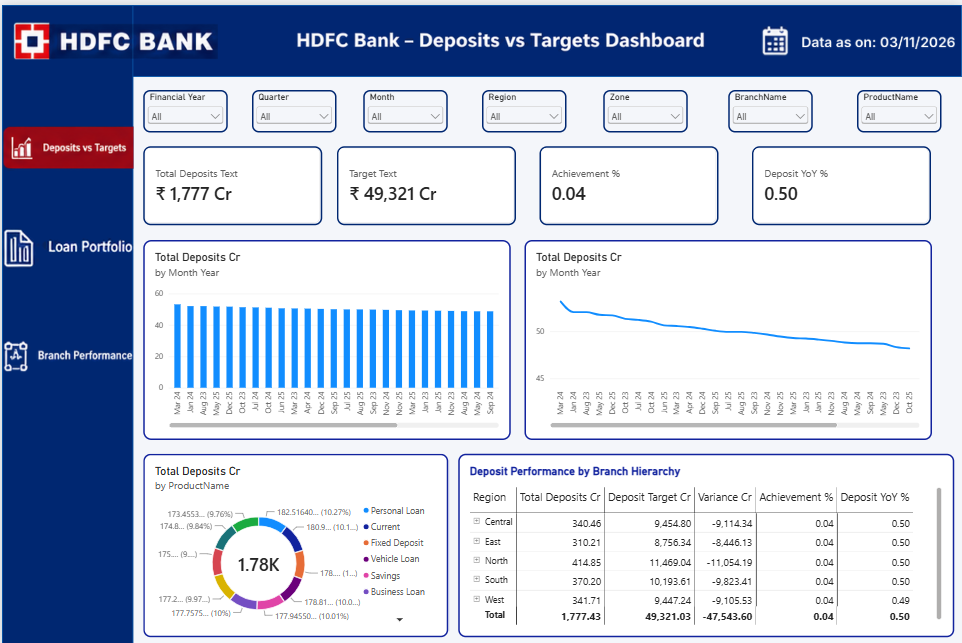

Layout of this report page (visuals, bound fields, positions):
{"tool":"powerbi","page":{"name":"Page 1","canvas":[1536,1024],"ordinal":0},"visuals":[{"type":"shape","box":[0,0,1535.7,115],"z":0},{"type":"shape","box":[0,0,210,1025],"z":1},{"type":"image","box":[13.3,0,331.2,115],"z":2},{"type":"image","box":[1213.1,0,310.6,115],"z":3},{"type":"image","box":[468.4,24,657.2,70.3],"z":4},{"type":"image","box":[0,185,210,83.3],"z":5},{"type":"image","box":[0,353.3,210,70],"z":6},{"type":"image","box":[0,528.3,210,70],"z":7},{"type":"slicer","fields":{"Values":["DimDate.Financial Year"]},"box":[225,136.7,135,68.3],"z":8},{"type":"slicer","fields":{"Values":["DimDate.Quarter"]},"box":[400,136.7,135,68.3],"z":9},{"type":"slicer","fields":{"Values":["DimDate.Month Year"]},"box":[578.3,136.7,135,68.3],"z":10},{"type":"slicer","fields":{"Values":["DimBranch.Region"]},"box":[768.3,136.7,135,68.3],"z":11},{"type":"slicer","fields":{"Values":["DimBranch.Zone"]},"box":[961.7,136.7,135,68.3],"z":12},{"type":"slicer","fields":{"Values":["DimBranch.BranchName"]},"box":[1161.7,136.7,135,68.3],"z":13},{"type":"slicer","fields":{"Values":["DimProduct.ProductName"]},"box":[1368.3,136.7,135,68.3],"z":14},{"type":"cardVisual","fields":{"Data":["FactTransactions.Total Deposits Text"]},"box":[225,226.7,286.7,126.7],"z":15},{"type":"cardVisual","fields":{"Data":["FactTransactions.Target Text"]},"box":[535,226.7,286.7,126.7],"z":16},{"type":"cardVisual","fields":{"Data":["FactTransactions.Achievement %"]},"box":[860,226.7,286.7,126.7],"z":17},{"type":"cardVisual","fields":{"Data":["FactTransactions.Deposit YoY %"]},"box":[1200,226.7,286.7,126.7],"z":18},{"type":"clusteredColumnChart","fields":{"Category":["DimDate.Month Year"],"Y":["FactTransactions.Total Deposits Cr"]},"box":[225,375,588.3,320],"z":19},{"type":"lineChart","fields":{"Category":["DimDate.Month Year"],"Y":["FactTransactions.Total Deposits Cr"]},"box":[835,375,651.7,320],"z":20},{"type":"donutChart","fields":{"Category":["DimProduct.ProductName"],"Y":["FactTransactions.Total Deposits Cr"]},"box":[225,718.3,488.3,293.3],"z":21},{"type":"pivotTable","title":"Deposit Performance by Branch Hierarchy","fields":{"Rows":["DimBranch.Region","DimBranch.Zone","DimBranch.City","DimBranch.BranchName"],"Values":["FactTransactions.Total Deposits Cr","FactTransactions.Deposit Target Cr","FactTransactions.Variance Cr","FactTransactions.Achievement %","FactTransactions.Deposit YoY %"]},"box":[730,718.3,793.3,293.3],"z":22}]}

Visuals, with their boxes in screenshot pixels (x1, y1, x2, y2):
shape: Rect(0, 3, 949, 74)
shape: Rect(0, 3, 130, 636)
image: Rect(8, 3, 213, 74)
image: Rect(749, 3, 941, 74)
image: Rect(289, 17, 695, 61)
image: Rect(0, 117, 130, 168)
image: Rect(0, 221, 130, 264)
image: Rect(0, 329, 130, 372)
slicer - DimDate.Financial Year: Rect(139, 87, 222, 129)
slicer - DimDate.Quarter: Rect(247, 87, 330, 129)
slicer - DimDate.Month Year: Rect(357, 87, 441, 129)
slicer - DimBranch.Region: Rect(475, 87, 558, 129)
slicer - DimBranch.Zone: Rect(594, 87, 677, 129)
slicer - DimBranch.BranchName: Rect(718, 87, 801, 129)
slicer - DimProduct.ProductName: Rect(845, 87, 928, 129)
cardVisual - FactTransactions.Total Deposits Text: Rect(139, 143, 316, 221)
cardVisual - FactTransactions.Target Text: Rect(330, 143, 508, 221)
cardVisual - FactTransactions.Achievement %: Rect(531, 143, 708, 221)
cardVisual - FactTransactions.Deposit YoY %: Rect(741, 143, 918, 221)
clusteredColumnChart - DimDate.Month Year x FactTransactions.Total Deposits Cr: Rect(139, 234, 502, 432)
lineChart - DimDate.Month Year x FactTransactions.Total Deposits Cr: Rect(516, 234, 918, 432)
donutChart - DimProduct.ProductName x FactTransactions.Total Deposits Cr: Rect(139, 446, 441, 627)
"Deposit Performance by Branch Hierarchy" pivotTable: Rect(451, 446, 941, 627)
